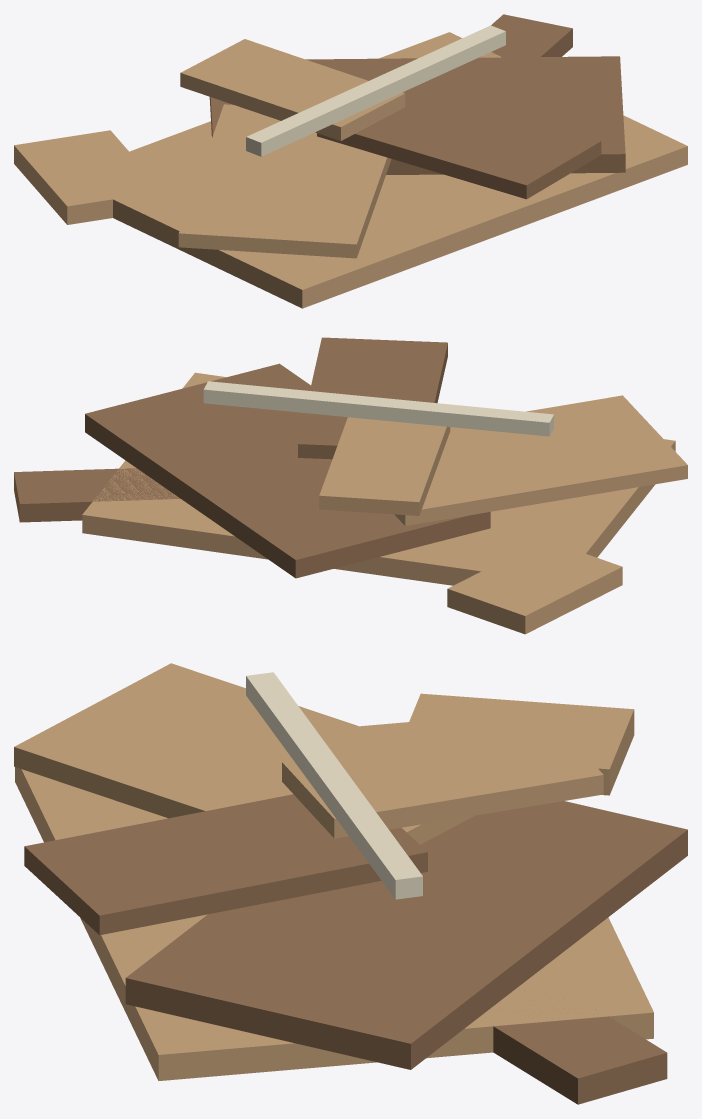
The model's file is prop-leather-scrap-pile.fbx.
3 views of the same model, one above another, from view 1: azimuth 30°, elevation 25°; view 2: azimuth 150°, elevation 25°; view 3: azimuth 270°, elevation 25° (orthographic). The views are drawn at different scales.
Parts seen in each view (by area): view 1: prop-leather-scrap-pile; view 2: prop-leather-scrap-pile; view 3: prop-leather-scrap-pile.
Part boxes in pixels (<box>): prop-leather-scrap-pile: <box>14,14,687,308</box>; prop-leather-scrap-pile: <box>14,337,687,634</box>; prop-leather-scrap-pile: <box>14,663,687,1104</box>.
Bounding box in the file's own units: 25.22 × 4.1 × 18.66.
